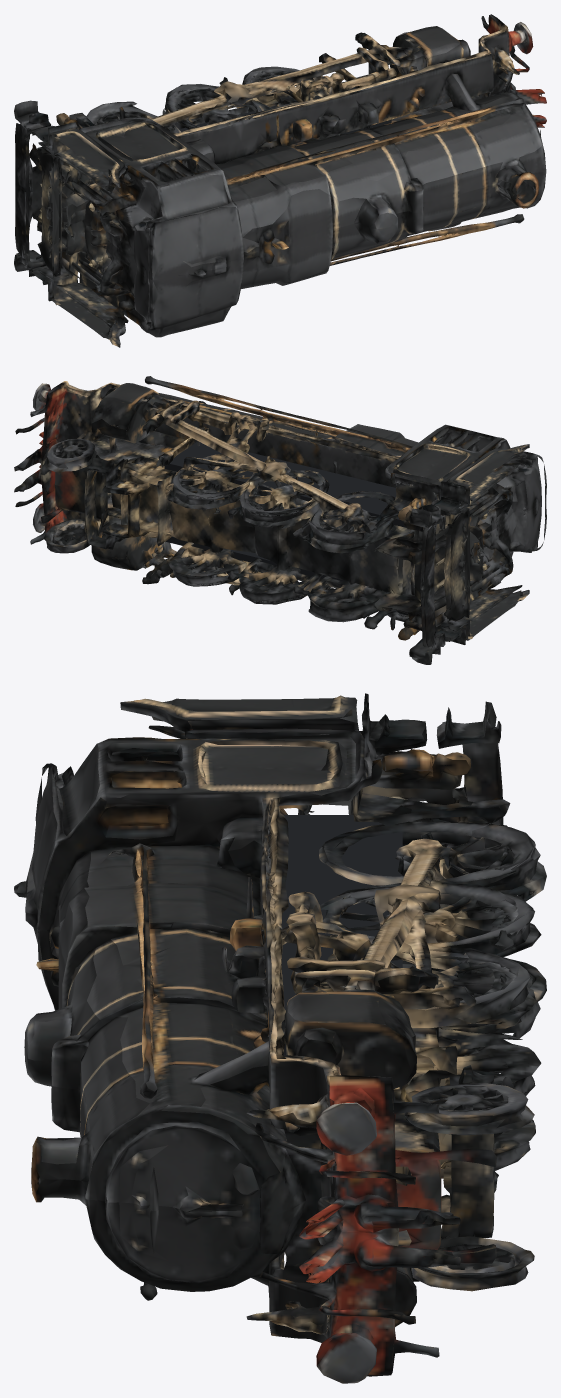
File: black_five_engine.glb
The picture shows the model from 3 angles, top to bottom: view 1: azimuth 30°, elevation 25°; view 2: azimuth 150°, elevation 25°; view 3: azimuth 270°, elevation 25°; orthographic projection. The views are drawn at different scales.
Visible parts, largest first — view 1: part_engine; view 2: part_engine, skirt_engine; view 3: part_engine, skirt_engine.
Part boxes in pixels (x1,y1,x2,y2): part_engine: (14,14,546,347); part_engine: (14,376,546,664); skirt_engine: (164,441,437,586); part_engine: (14,693,546,1383); skirt_engine: (282,815,402,1055).
Size of the model in its own units: 7.57 by 2.77 by 4.19.
Materials: 2 (1 with a texture image).
